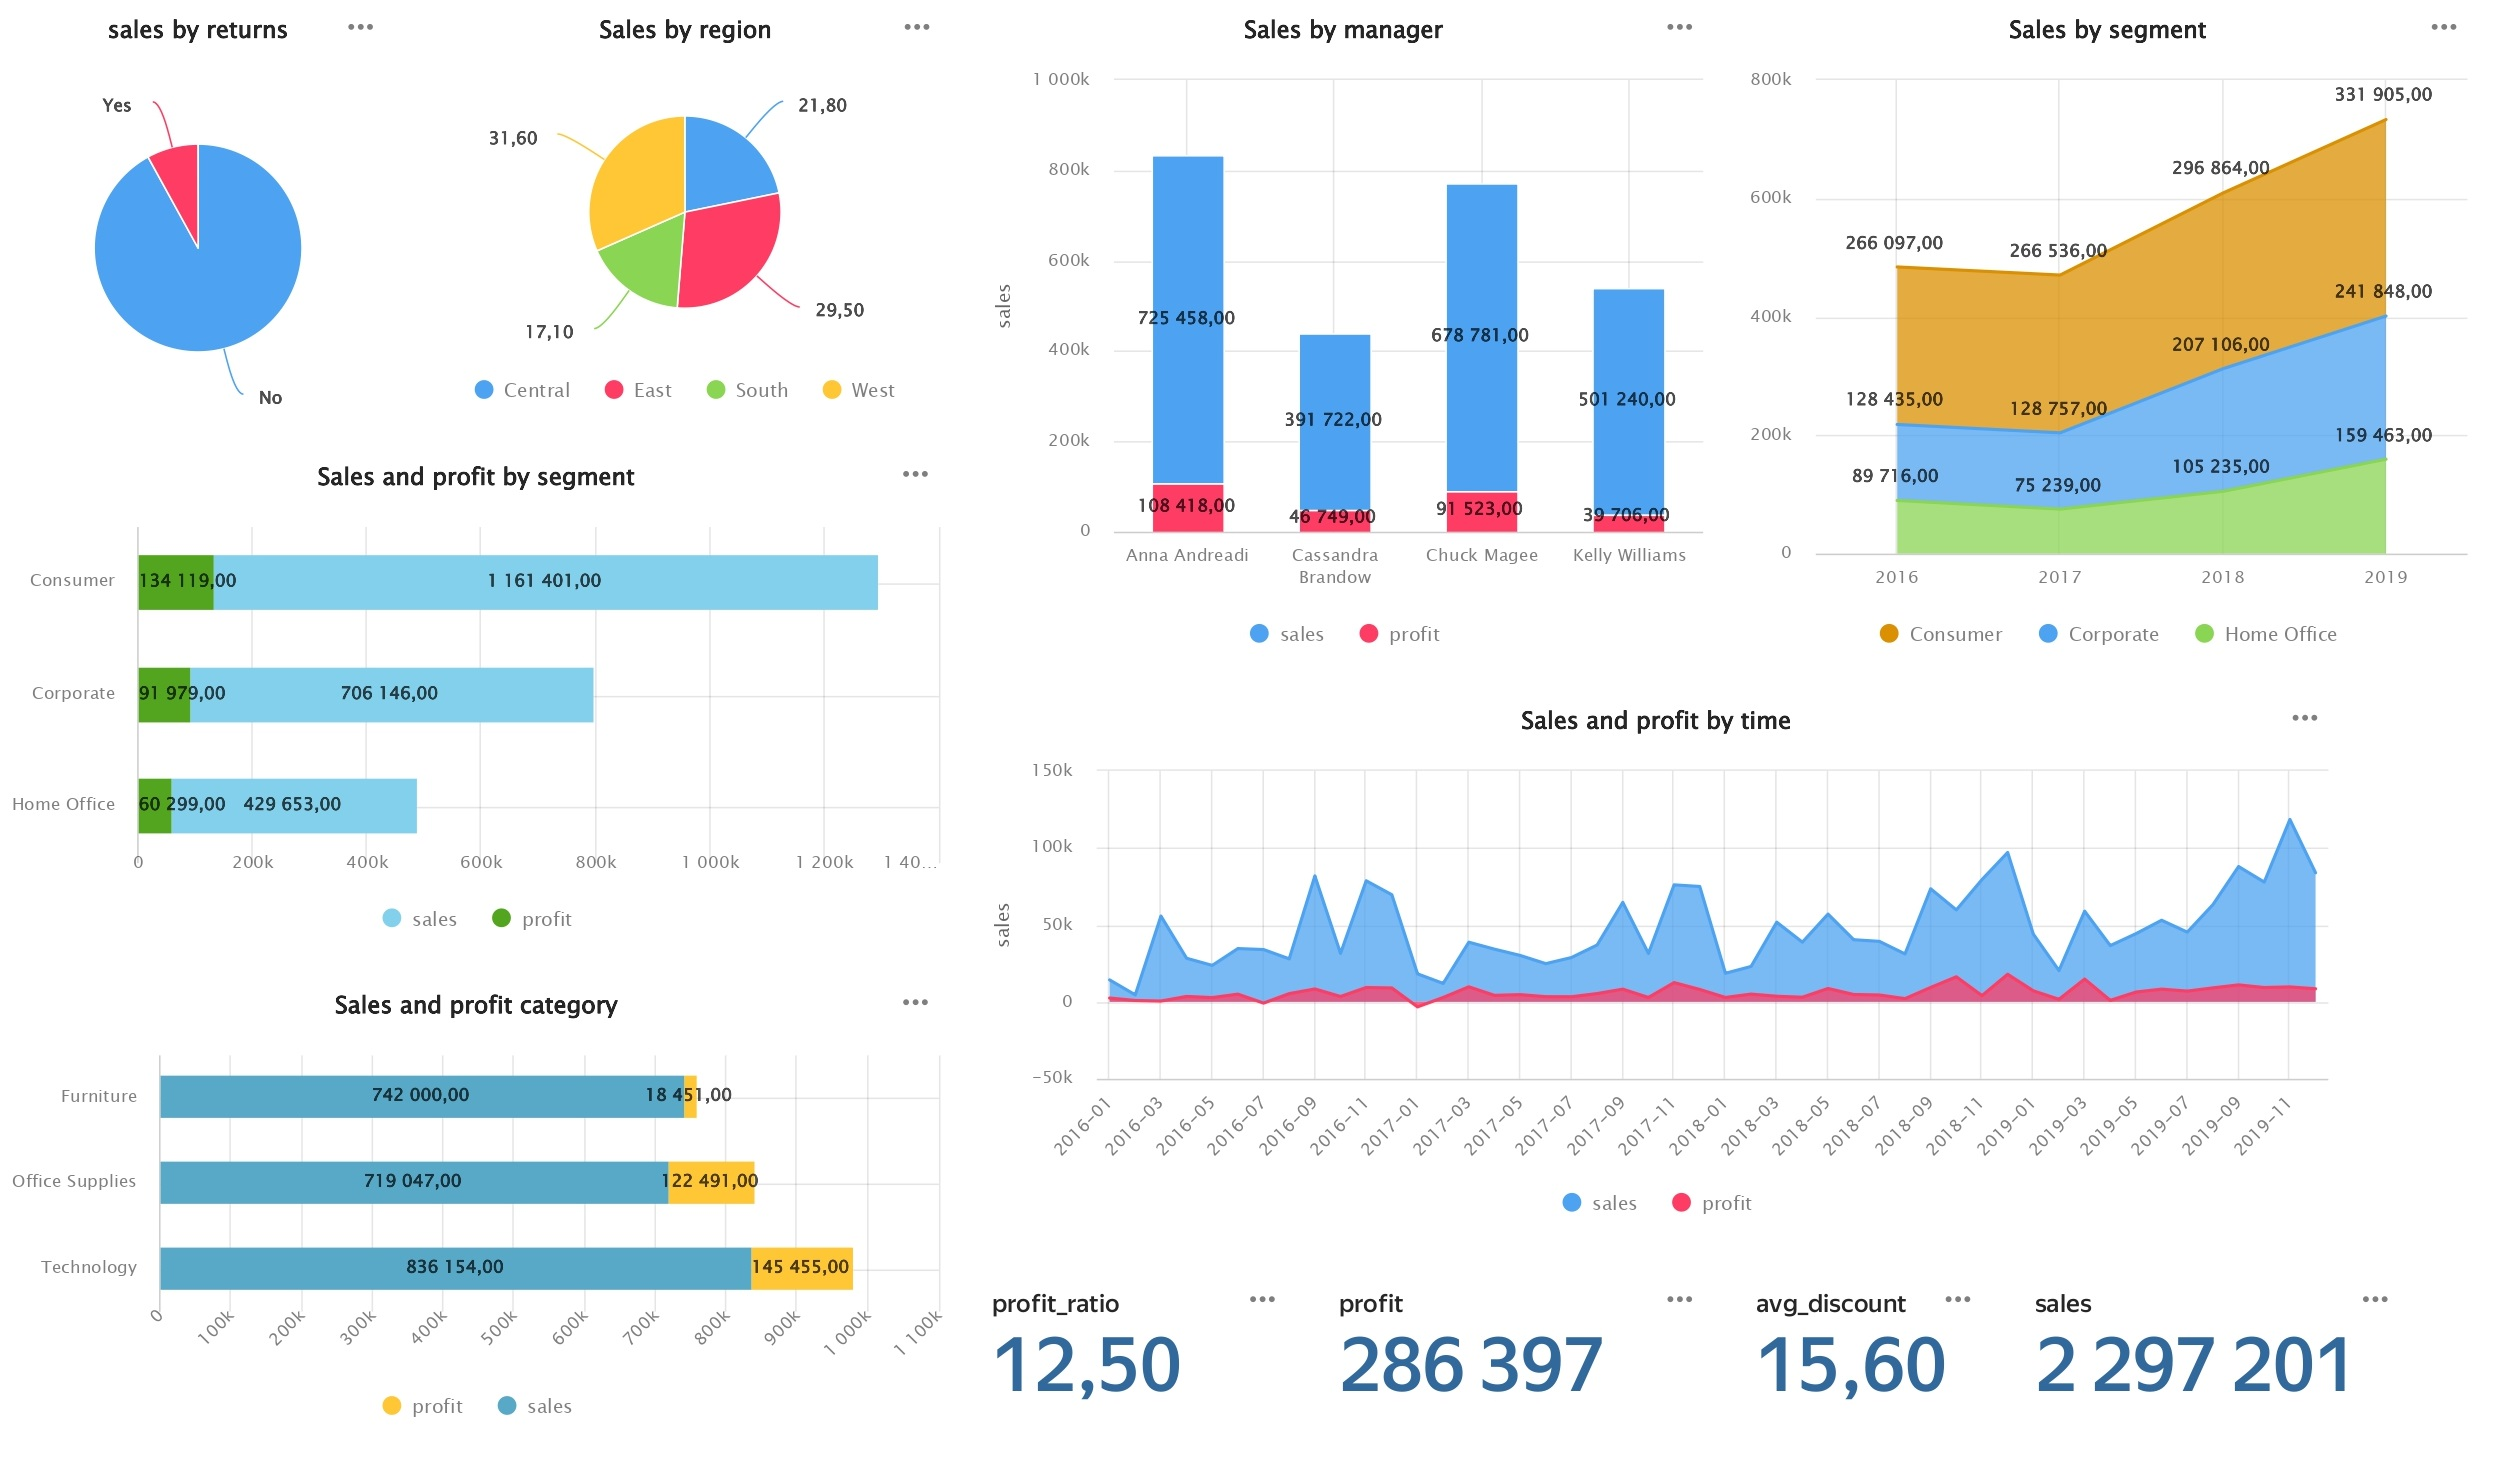

The page's visual inventory and layout, read from the dashboard file:
{"tool":"powerbi","page":{"name":"Part 2","canvas":[1280,720],"ordinal":1},"visuals":[{"type":"donutChart","title":"Sales by region","fields":{"Category":["datw person_datw.region"],"Y":["Sum(datw sales_fact_datw.sales)"]},"box":[460.3,325.9,470.3,394.8],"z":0},{"type":"pieChart","title":"Returned","fields":{"Category":["datw sales_fact_datw.returned"],"Y":["CountNonNull(datw sales_fact_datw.returned)"]},"box":[10.1,325.9,418.3,376.3],"z":1000},{"type":"lineChart","title":"Sales by segment","fields":{"Category":["datw sales_fact_datw.order_date.Изменение.Иерархия дат.Год","datw sales_fact_datw.order_date.Изменение.Иерархия дат.Квартал","datw sales_fact_datw.order_date.Изменение.Иерархия дат.Месяц","datw sales_fact_datw.order_date.Изменение.Иерархия дат.День"],"Y":["Sum(datw sales_fact_datw.sales)"],"Series":["datw customer_datw.segment"]},"box":[10.1,0,918.8,325.9],"z":2000},{"type":"card","fields":{"Values":["Sum(datw sales_fact_datw.profit)"]},"box":[928.9,0,351.1,147.8],"z":3000},{"type":"card","fields":{"Values":["Sum(datw sales_fact_datw.sales)"]},"box":[928.9,147.8,351.1,139.4],"z":4000},{"type":"slicer","fields":{"Values":["datw sales_fact_datw.returned"]},"box":[1023,601.4,139.4,119.3],"z":5000},{"type":"card","fields":{"Values":["Avg(datw sales_fact_datw.profit_ratio)"]},"box":[930.6,287.2,349.4,141.1],"z":7000}]}

Visuals, with their boxes on the page's 1280x720 design canvas (x1, y1, x2, y2). These are canvas units, not pixel positions in the 2509x1465 screenshot, which may show the page scaled, cropped or inside an application window:
"Sales by region" donutChart: crop(460, 326, 931, 721)
"Returned" pieChart: crop(10, 326, 428, 702)
"Sales by segment" lineChart: crop(10, 0, 929, 326)
card - Sum(datw sales_fact_datw.profit): crop(929, 0, 1280, 148)
card - Sum(datw sales_fact_datw.sales): crop(929, 148, 1280, 287)
slicer - datw sales_fact_datw.returned: crop(1023, 601, 1162, 721)
card - Avg(datw sales_fact_datw.profit_ratio): crop(931, 287, 1280, 428)
